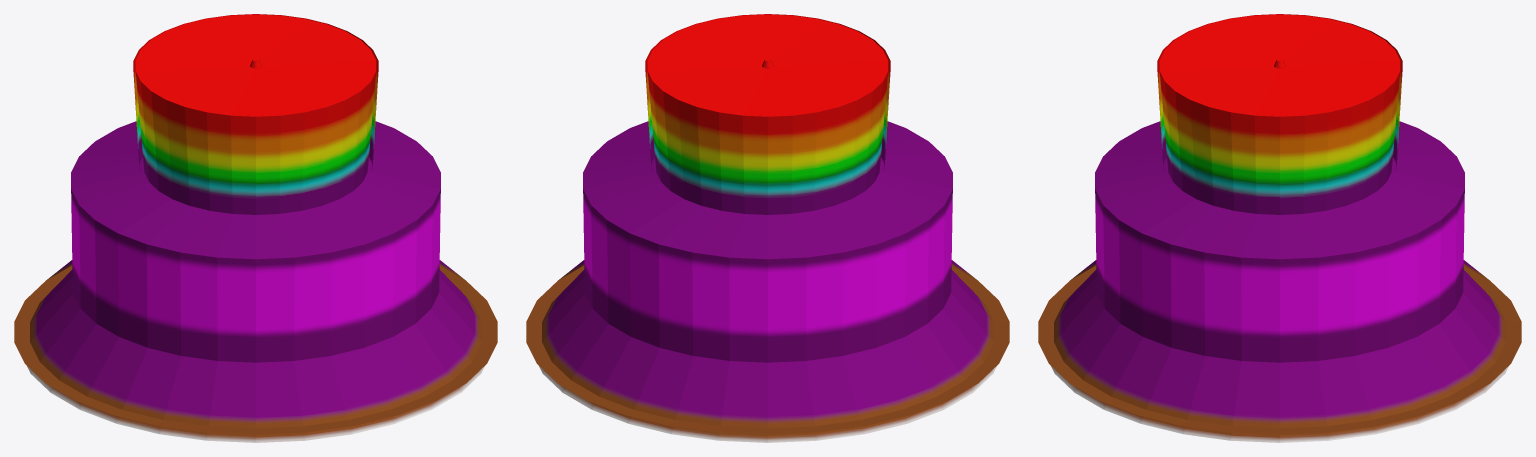
3 renders of one model, left to right at view 1: azimuth 30°, elevation 25°; view 2: azimuth 150°, elevation 25°; view 3: azimuth 270°, elevation 25°, orthographic.
Parts seen in each view (by area): view 1: algeomath; view 2: algeomath; view 3: algeomath.
Boxes of the visible parts, x1=… form: algeomath: x1=14, y1=14, x2=497, y2=442; algeomath: x1=526, y1=14, x2=1009, y2=442; algeomath: x1=1038, y1=14, x2=1521, y2=442.
Size of the model in its own units: 8.11 by 5.21 by 8.06.
Materials: 1 (1 with a texture image).
